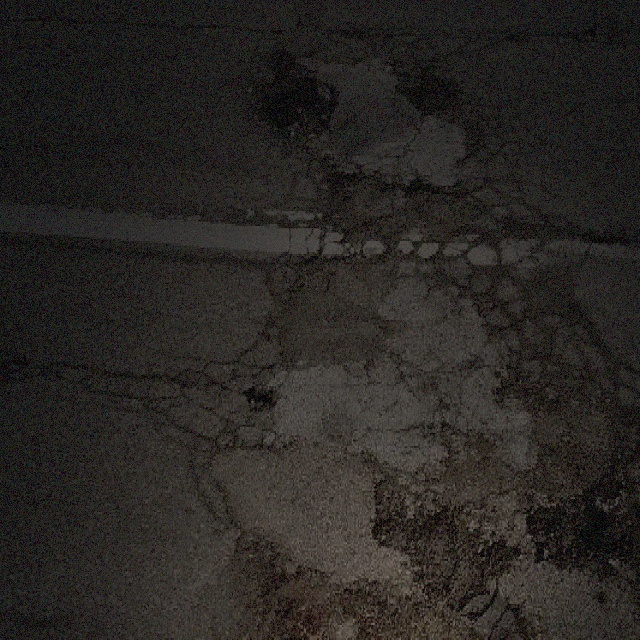pothole: (370, 504, 501, 610), (521, 474, 634, 570), (260, 55, 338, 141), (397, 68, 462, 122), (240, 380, 276, 414)
